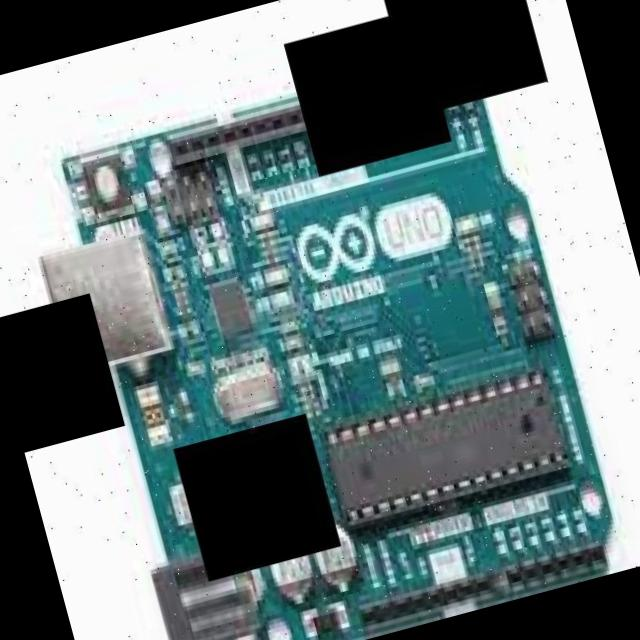arduino: (17, 43, 629, 640)
